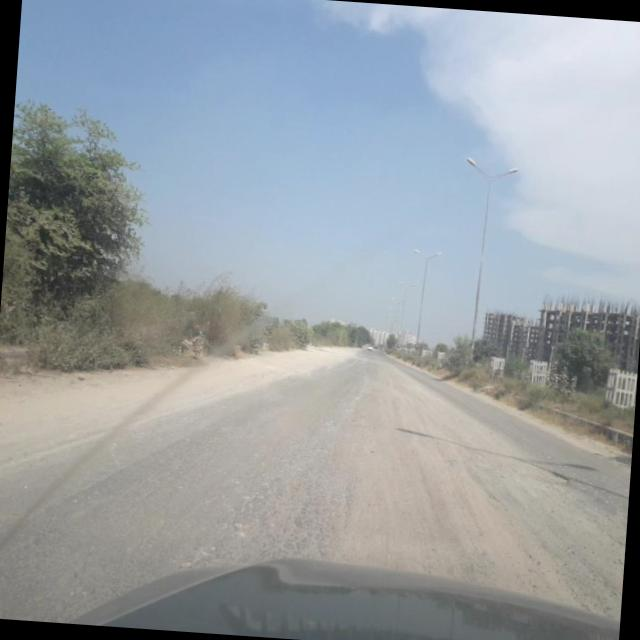crack: (0, 401, 353, 573)
